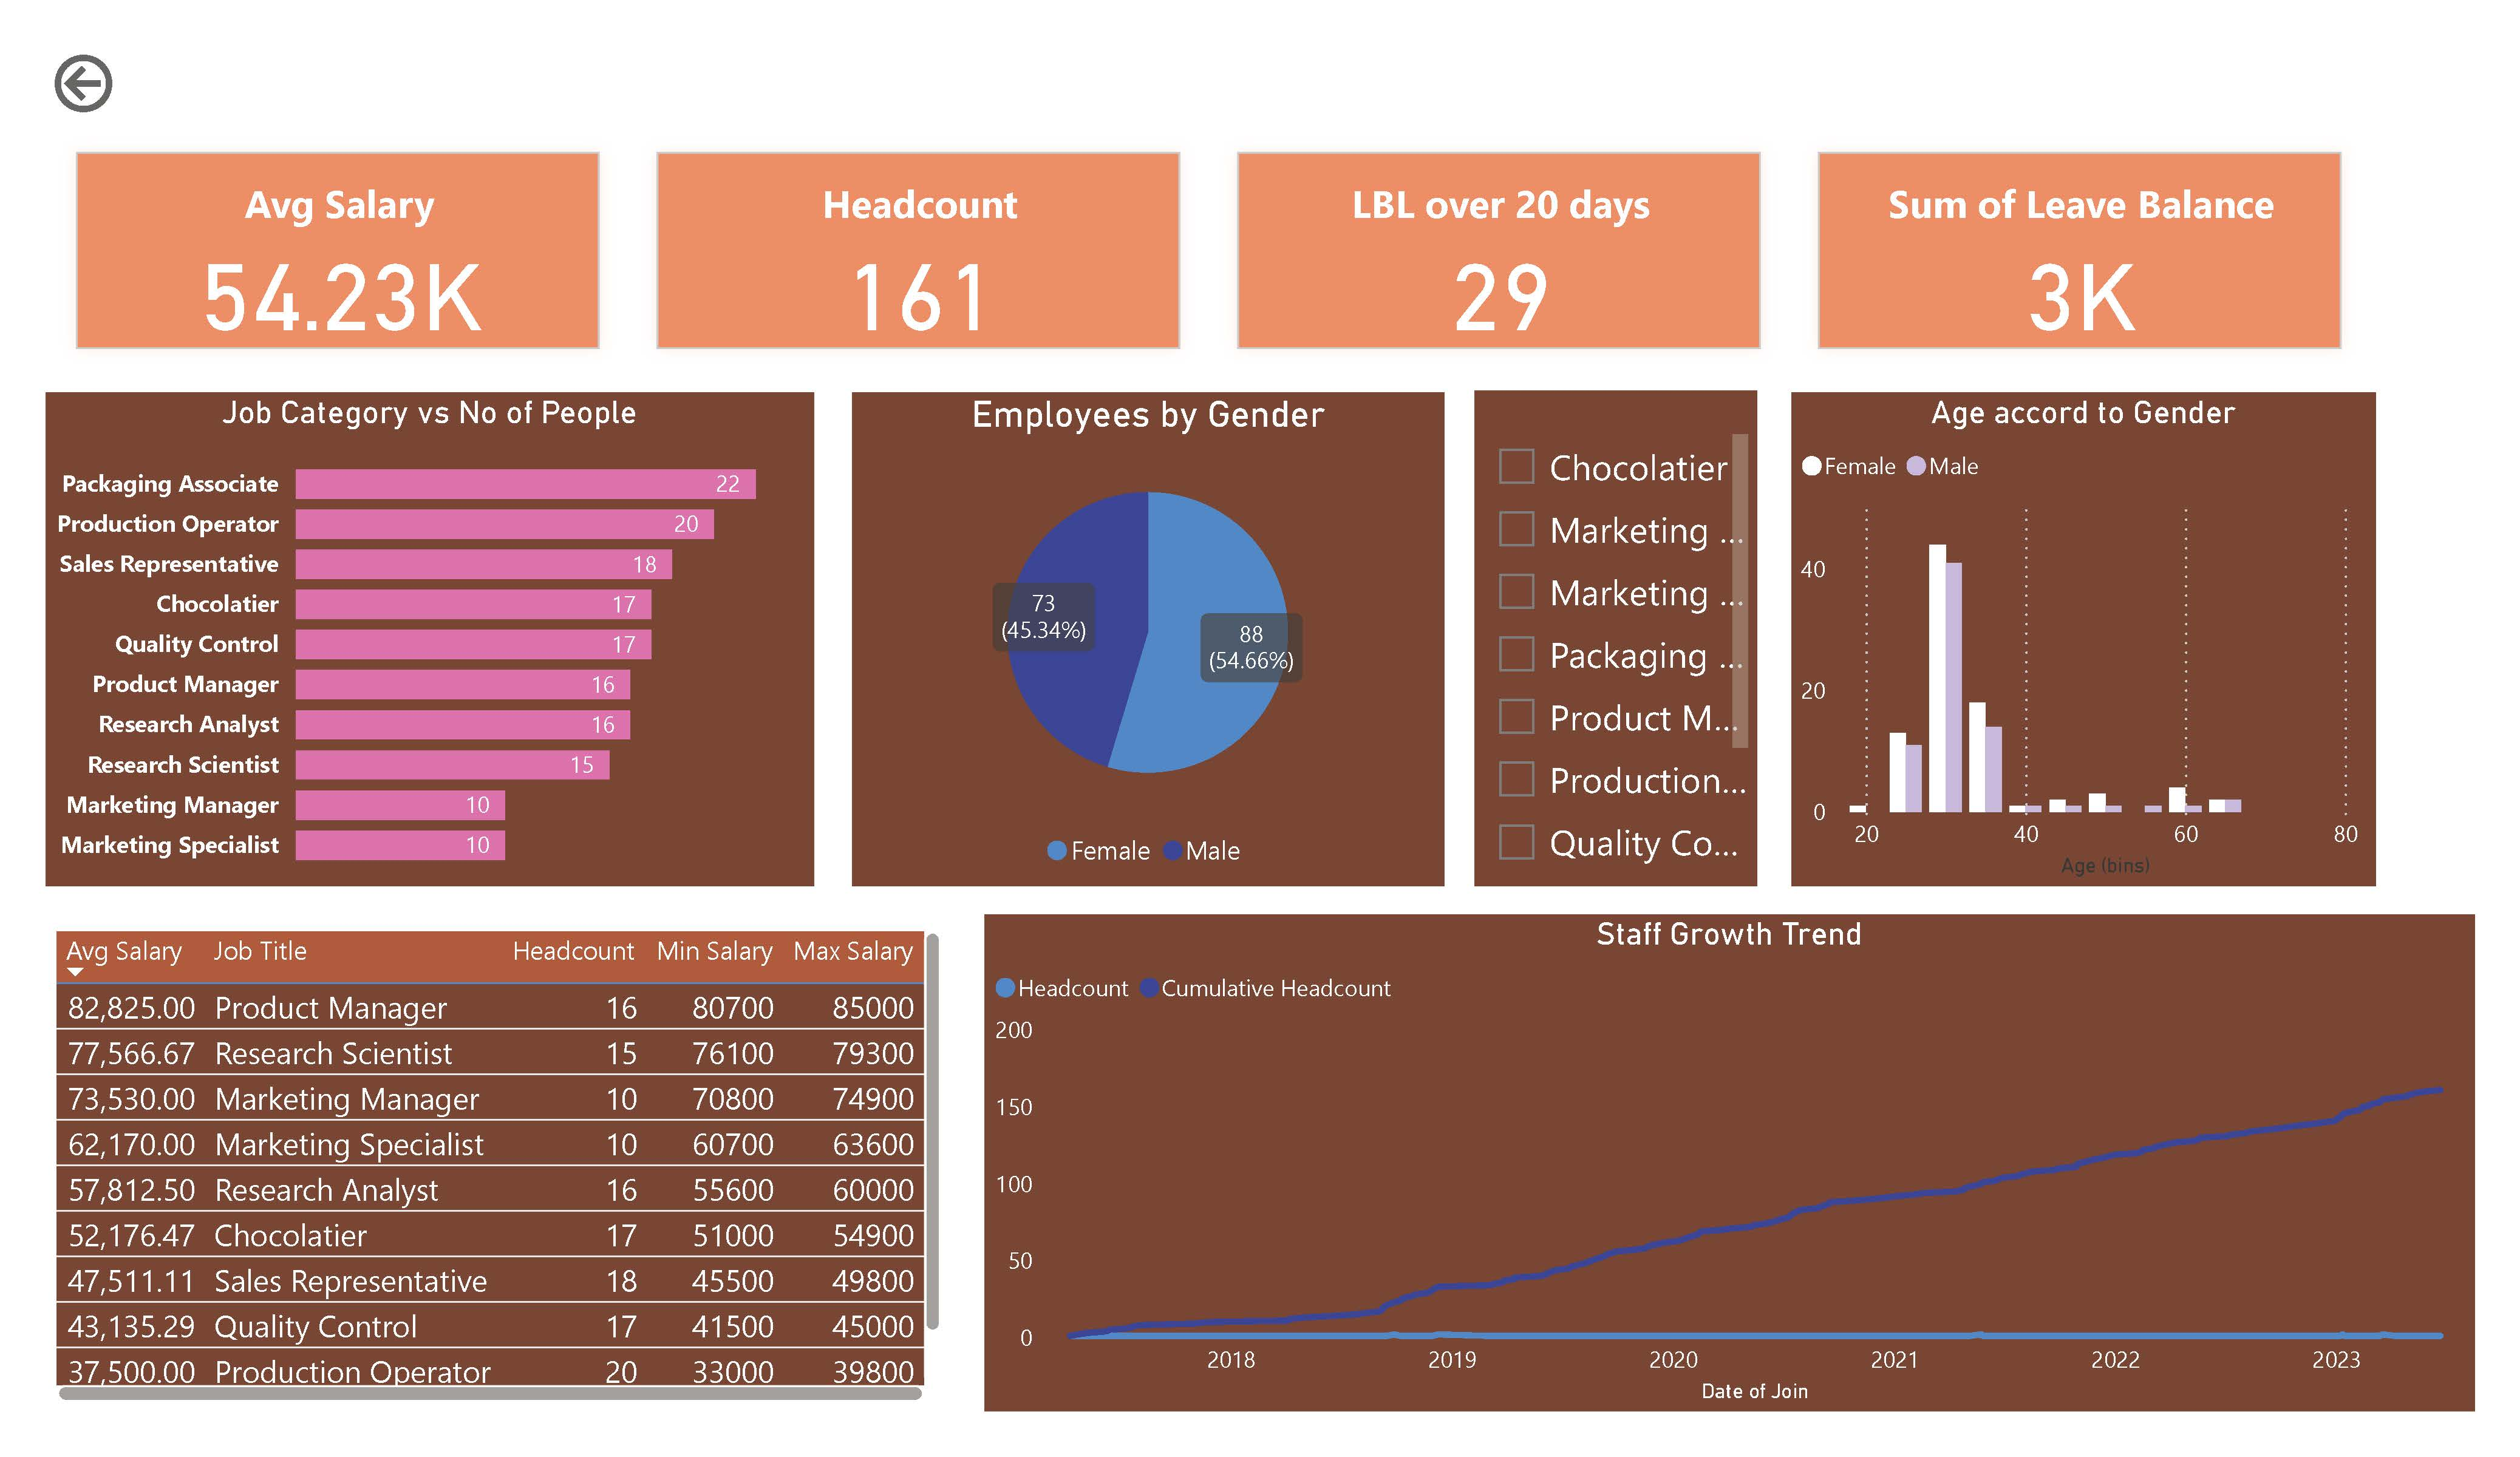

The page's visual inventory and layout, read from the dashboard file:
{"tool":"powerbi","page":{"name":"Page 1","canvas":[1280,720],"ordinal":0},"visuals":[{"type":"clusteredBarChart","title":"Job Category vs No of People","fields":{"Category":["data.Job Title"],"Y":["data.Headcount"]},"box":[0,183.3,405,260],"z":0},{"type":"pieChart","title":"Employees by Gender","fields":{"Y":["data.Headcount"],"Category":["data.Gender"]},"box":[425,183.3,311.7,260],"z":1},{"type":"slicer","fields":{"Values":["data.Job Title"]},"box":[753.3,181.7,148.3,261.7],"z":2},{"type":"clusteredColumnChart","title":"Age accord to Gender","fields":{"Category":["data.Age (bins)"],"Y":["data.Headcount"],"Series":["data.Gender"]},"box":[920,183.3,308.3,260],"z":3},{"type":"tableEx","fields":{"Values":["data.Avg Salary","data.Job Title","data.Headcount","data.Min Salary","data.Max Salary"]},"box":[0,461.7,476.7,258.3],"z":4},{"type":"actionButton","box":[0,0,100,40],"z":5},{"type":"lineChart","title":"Staff Growth Trend","fields":{"Y":["data.Headcount","data.Cumulative Headcount"],"Category":["data.Date of Join"]},"box":[495,458.3,785,261.7],"z":7},{"type":"cardVisual","fields":{"Data":["data.Avg Salary","data.Headcount","data.LBL over 20 days","Sum(data.Leave Balance)"]},"box":[0,40,1228.3,136.7],"z":8}]}

Visuals, with their boxes in screenshot pixels (x1, y1, x2, y2):
"Job Category vs No of People" clusteredBarChart: locate(52, 396, 811, 883)
"Employees by Gender" pieChart: locate(848, 396, 1432, 883)
slicer - data.Job Title: locate(1463, 393, 1741, 883)
"Age accord to Gender" clusteredColumnChart: locate(1776, 396, 2353, 883)
tableEx - data.Avg Salary x data.Job Title: locate(52, 917, 945, 1401)
actionButton: locate(52, 52, 240, 127)
"Staff Growth Trend" lineChart: locate(979, 911, 2450, 1401)
cardVisual - data.Avg Salary x data.Headcount: locate(52, 127, 2353, 383)
